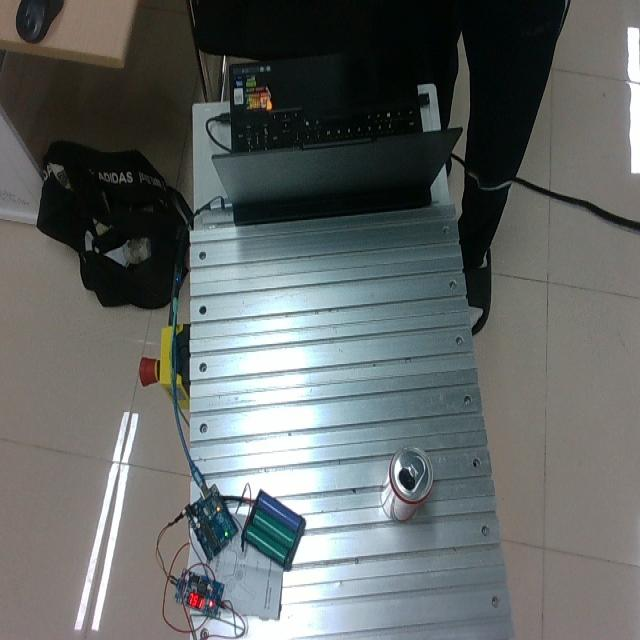coca: (381, 447, 432, 521)
